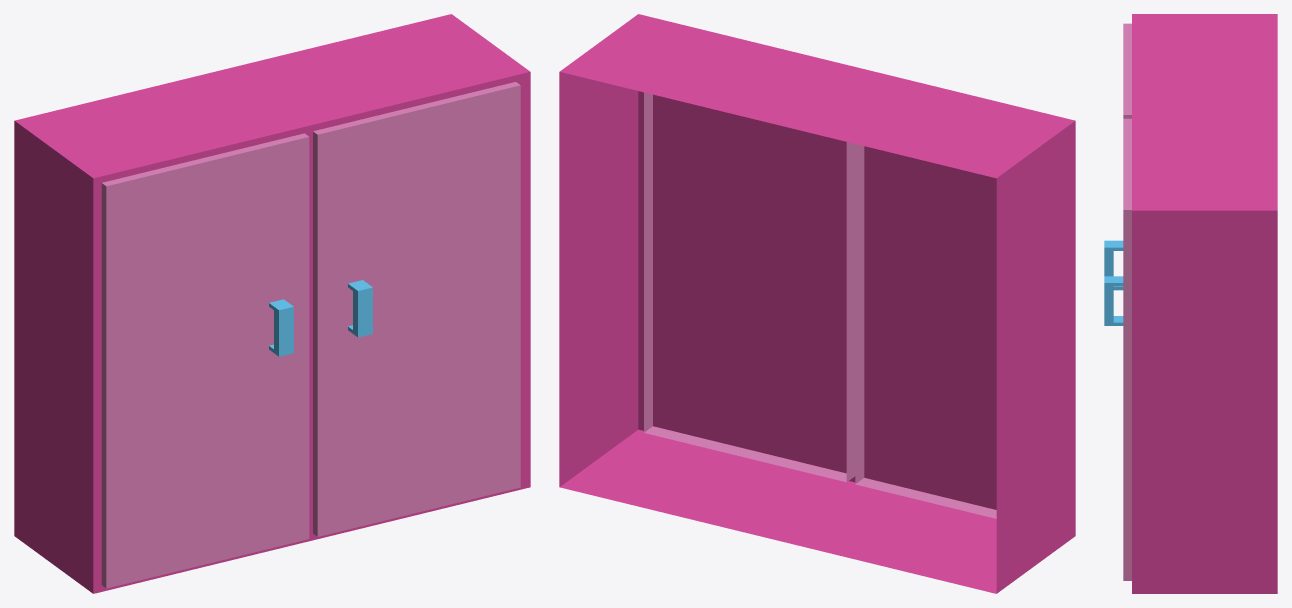
Rendered from 2_wardrobe_2.fbx.
The picture shows the model from 3 angles, left to right: view 1: azimuth 30°, elevation 25°; view 2: azimuth 150°, elevation 25°; view 3: azimuth 270°, elevation 25°; orthographic projection. The views are drawn at different scales.
Visible parts, largest first — view 1: 2 wardrobe 2; view 2: 2 wardrobe 2; view 3: 2 wardrobe 2.
Boxes of the visible parts, bbox=[...] form: 2 wardrobe 2: bbox=[14, 14, 530, 593]; 2 wardrobe 2: bbox=[559, 14, 1075, 593]; 2 wardrobe 2: bbox=[1104, 14, 1277, 593].
Size of the model in its own units: 38.22 by 34.72 by 14.22.
